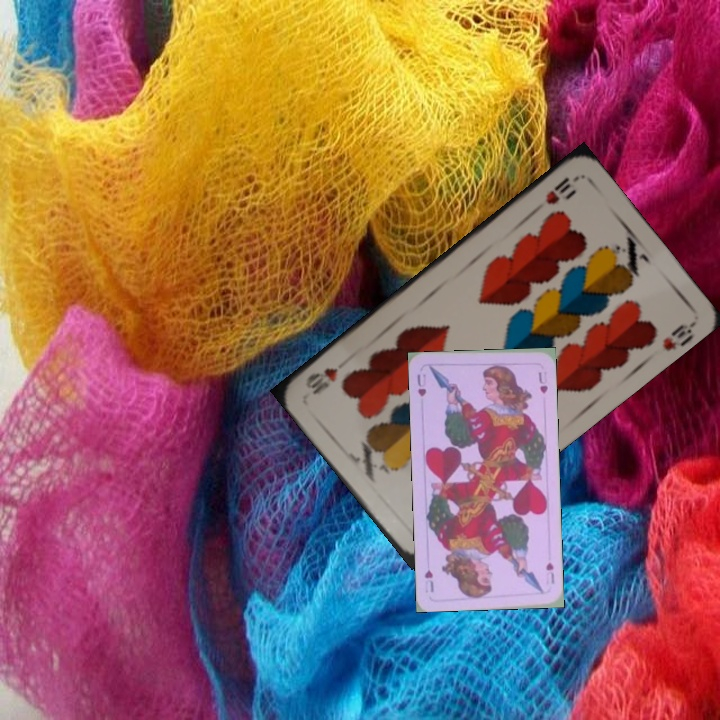H10: (541, 173, 574, 207)
HU: (413, 370, 429, 399), (542, 558, 557, 586)
